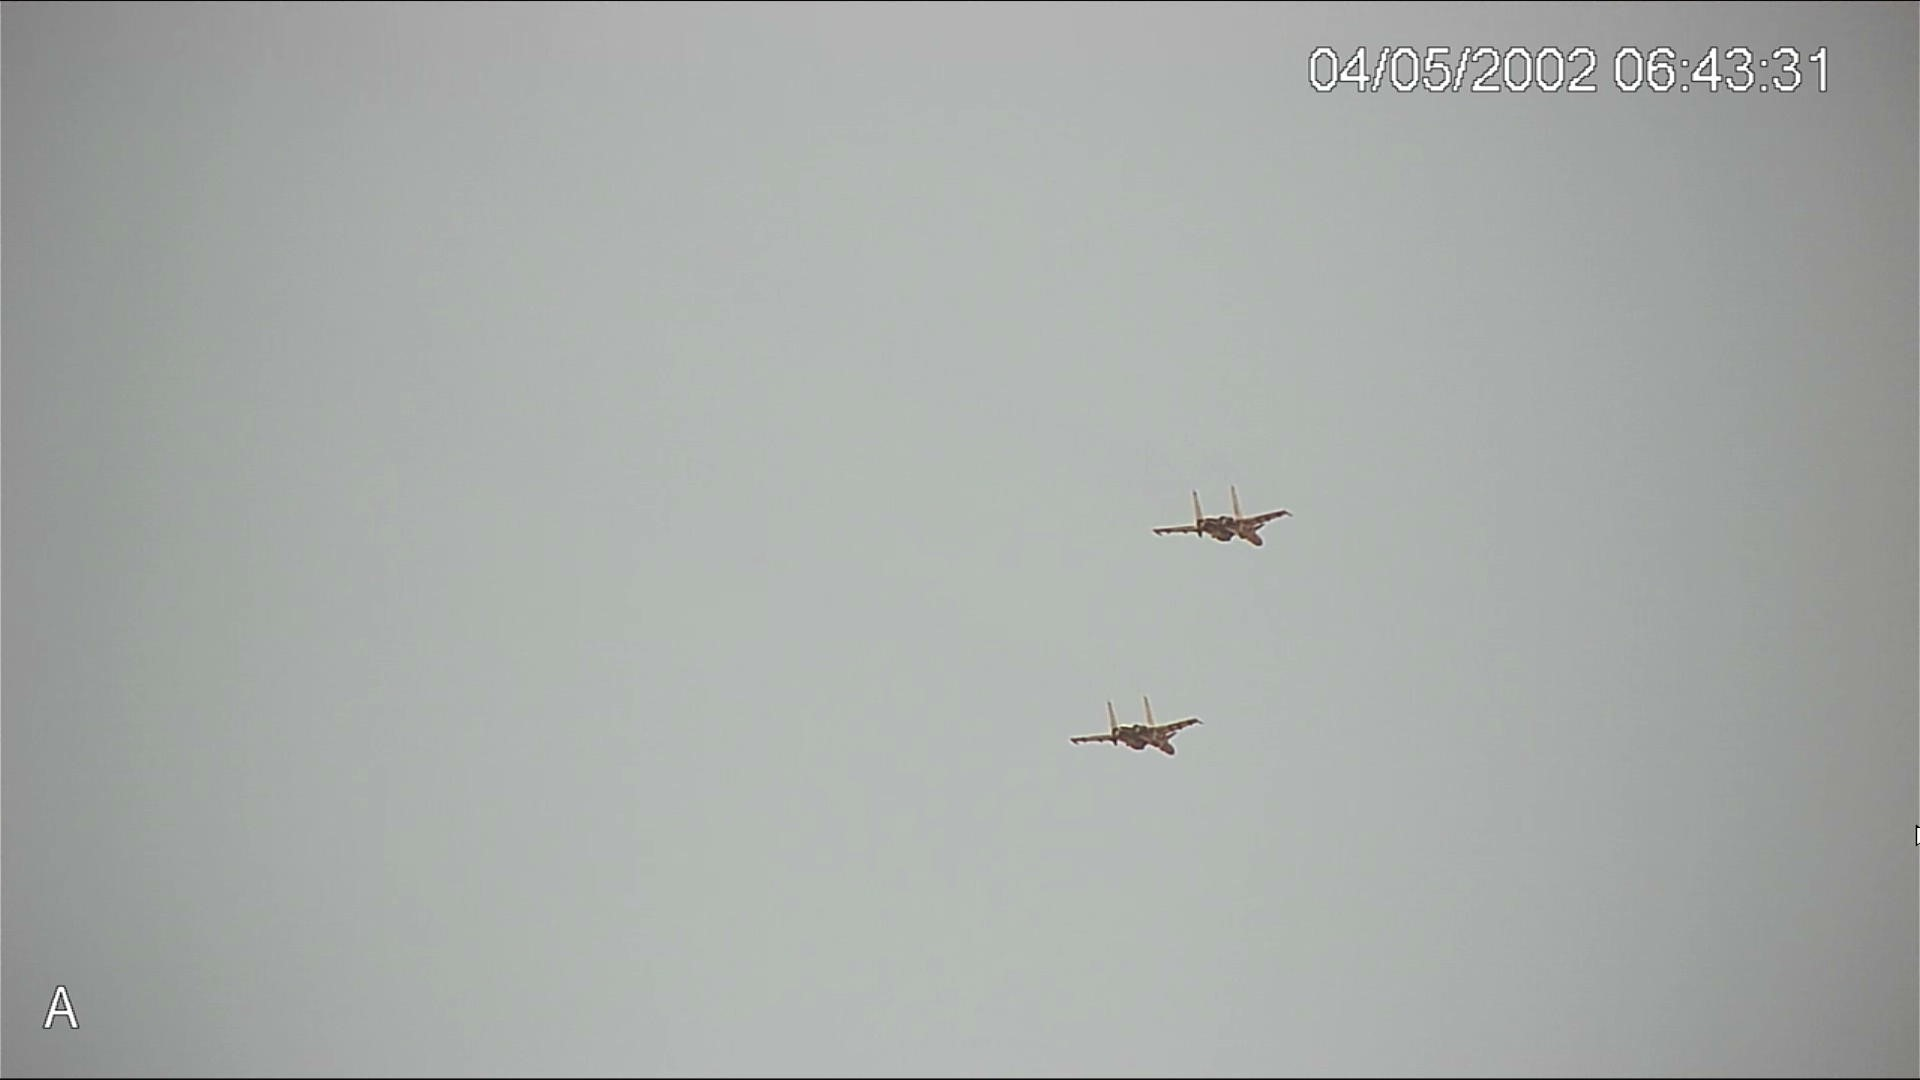SU_30: (1151, 489, 1302, 554), (1065, 698, 1203, 758)
